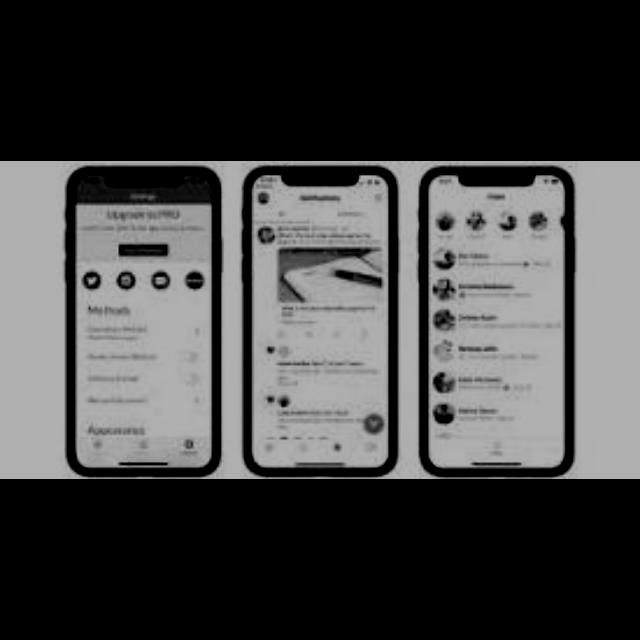fake: (237, 166, 402, 480), (68, 160, 224, 478), (417, 163, 571, 473)
